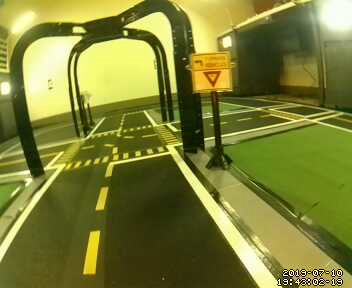Turn Yield: (190, 51, 234, 93)
